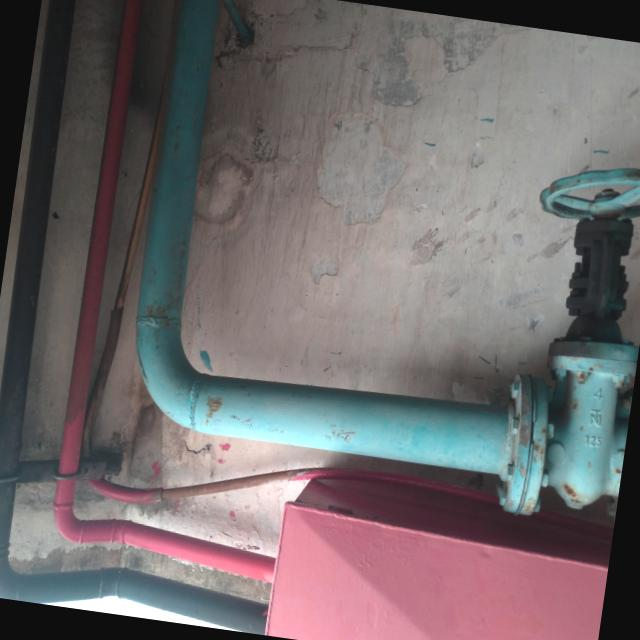gas: (120, 312, 634, 524), (0, 0, 114, 601), (44, 0, 157, 550), (113, 0, 249, 432), (0, 554, 272, 635), (50, 495, 278, 579)
